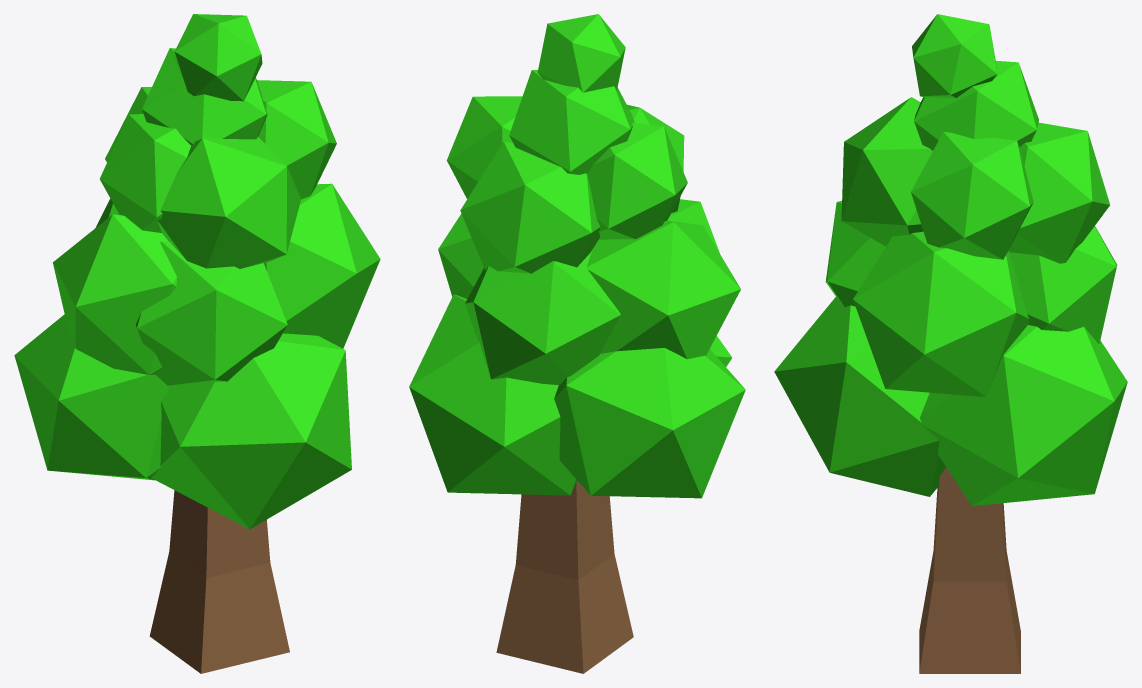
File: tree_03.glb
3 views of the same model, side by side, from view 1: azimuth 30°, elevation 25°; view 2: azimuth 150°, elevation 25°; view 3: azimuth 270°, elevation 25° (orthographic). The views are drawn at different scales.
Parts seen in each view (by area): view 1: Tree_03; view 2: Tree_03; view 3: Tree_03.
Part boxes in pixels (x1,y1,x2,y2): Tree_03: (14,14,380,673); Tree_03: (409,14,745,673); Tree_03: (774,14,1127,673).
Size of the model in its own units: 2.15 by 4.21 by 2.14.
1 material, 1 textured.
